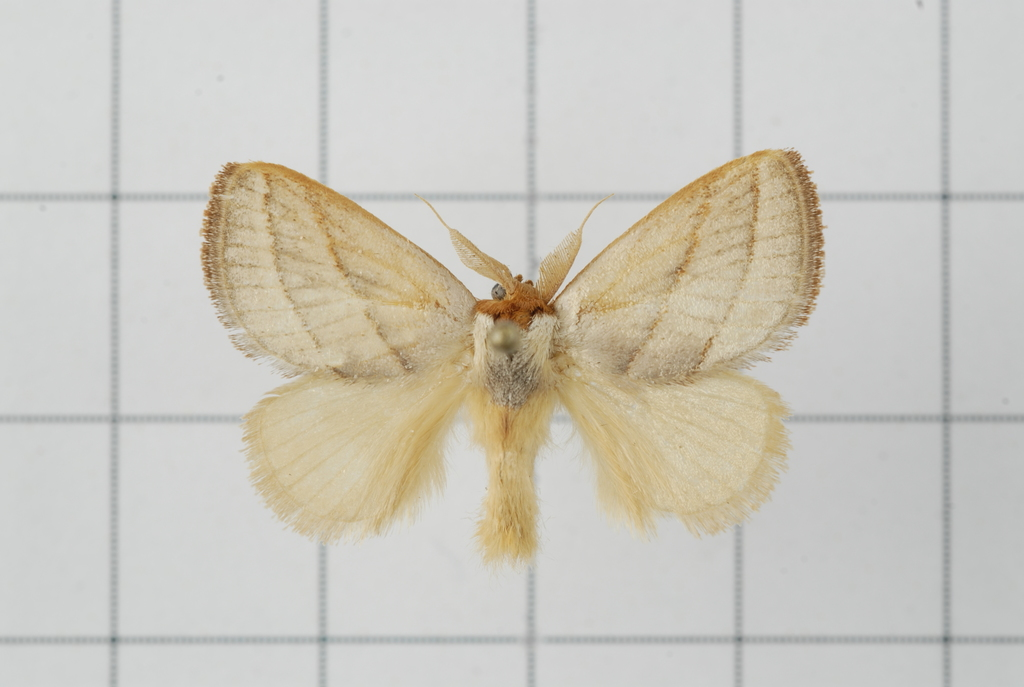Butterfly: (175, 139, 834, 613)
